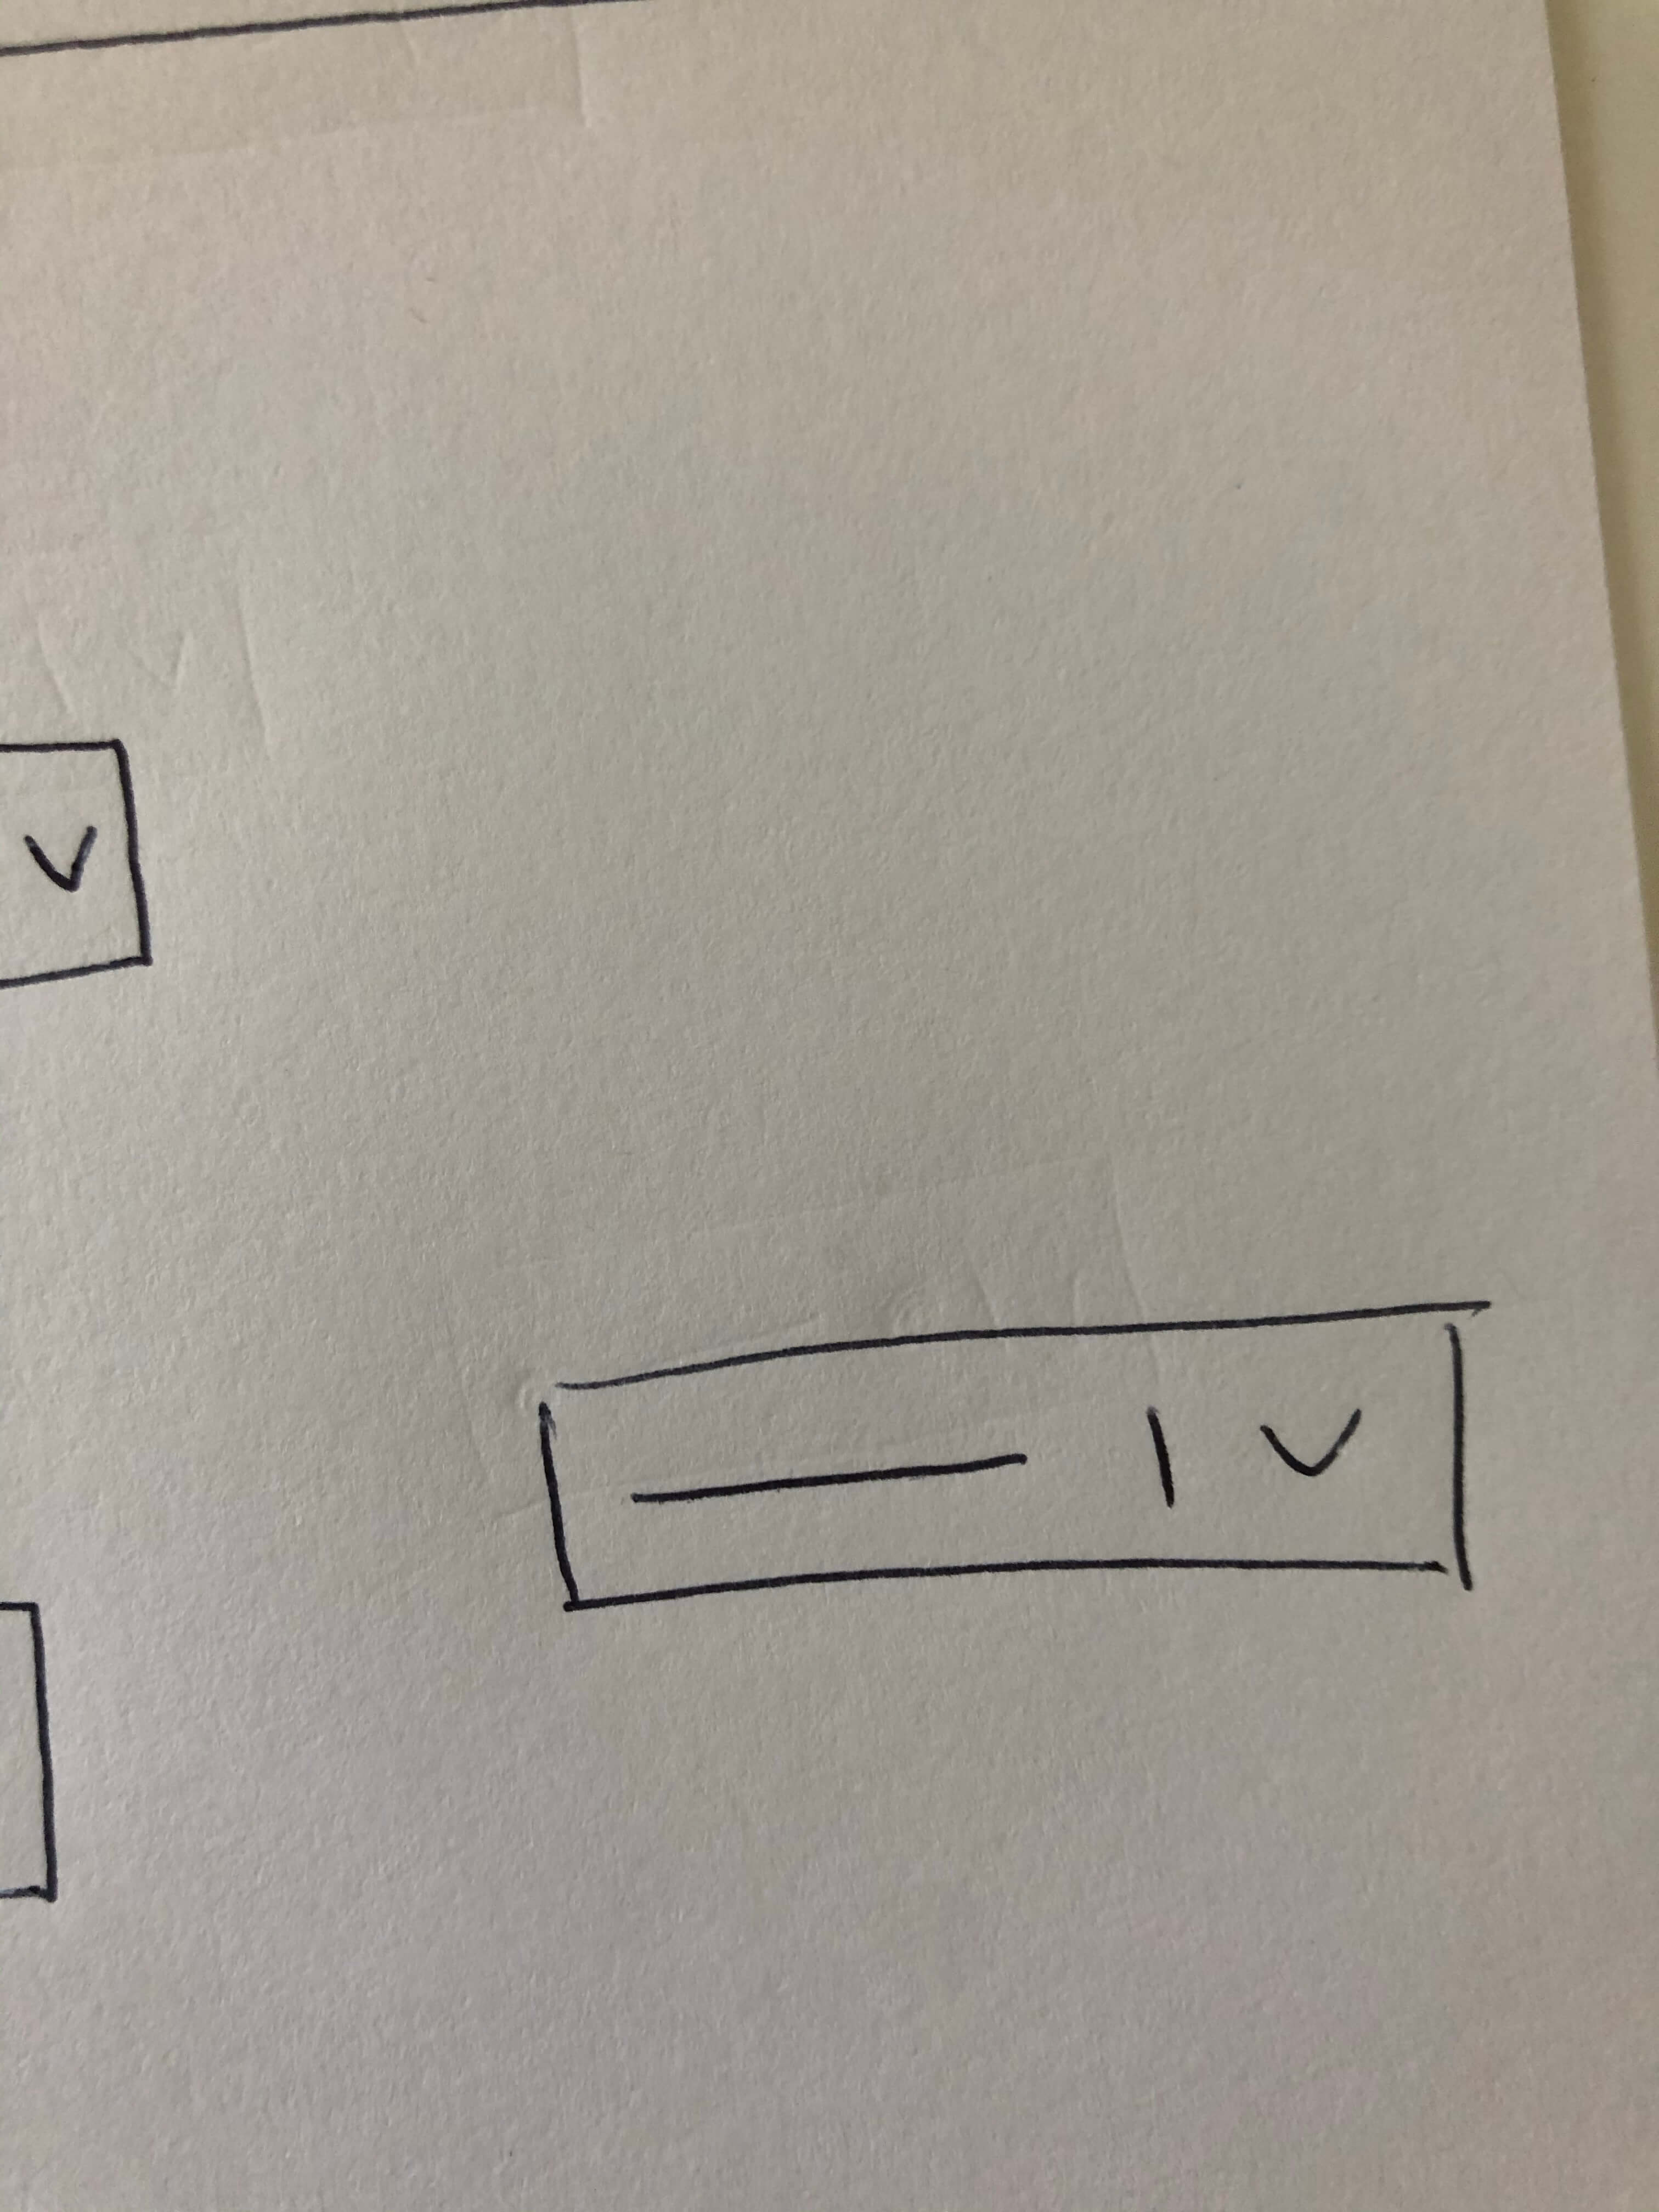split-button: (514, 1277, 1497, 1622)
